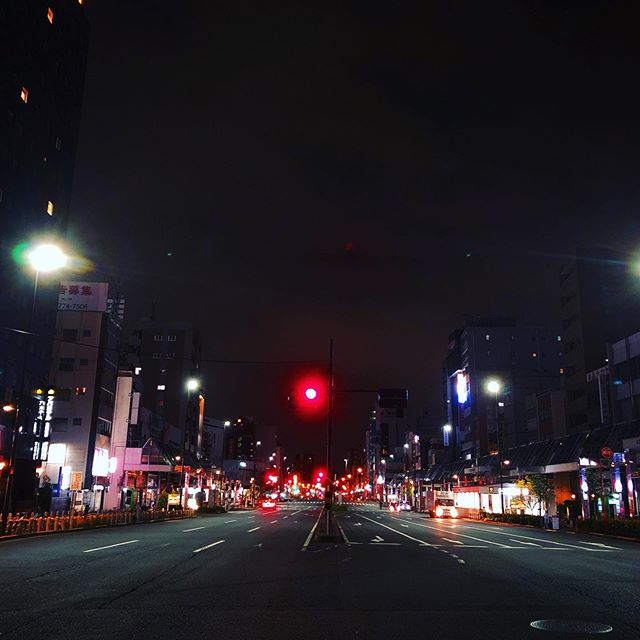building: (1, 1, 82, 525), (50, 281, 138, 524), (562, 257, 640, 522), (435, 327, 558, 494), (133, 313, 220, 514)
sky: (76, 1, 582, 319)
street: (1, 507, 640, 640)
